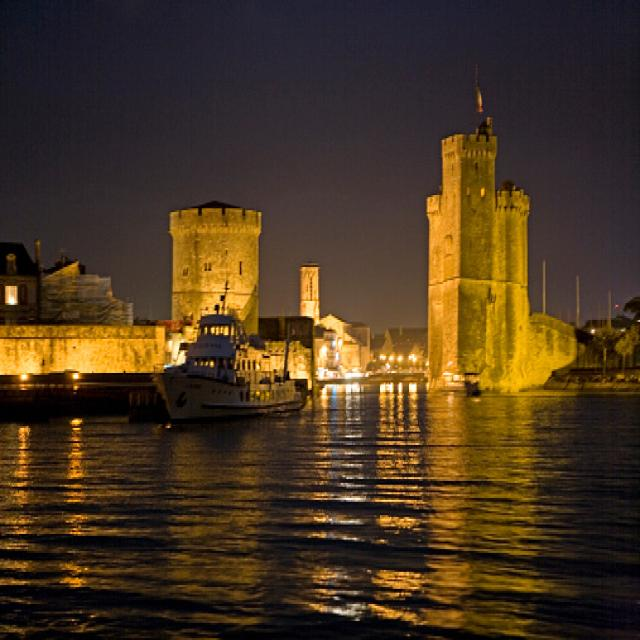Boat: (157, 302, 315, 434)
